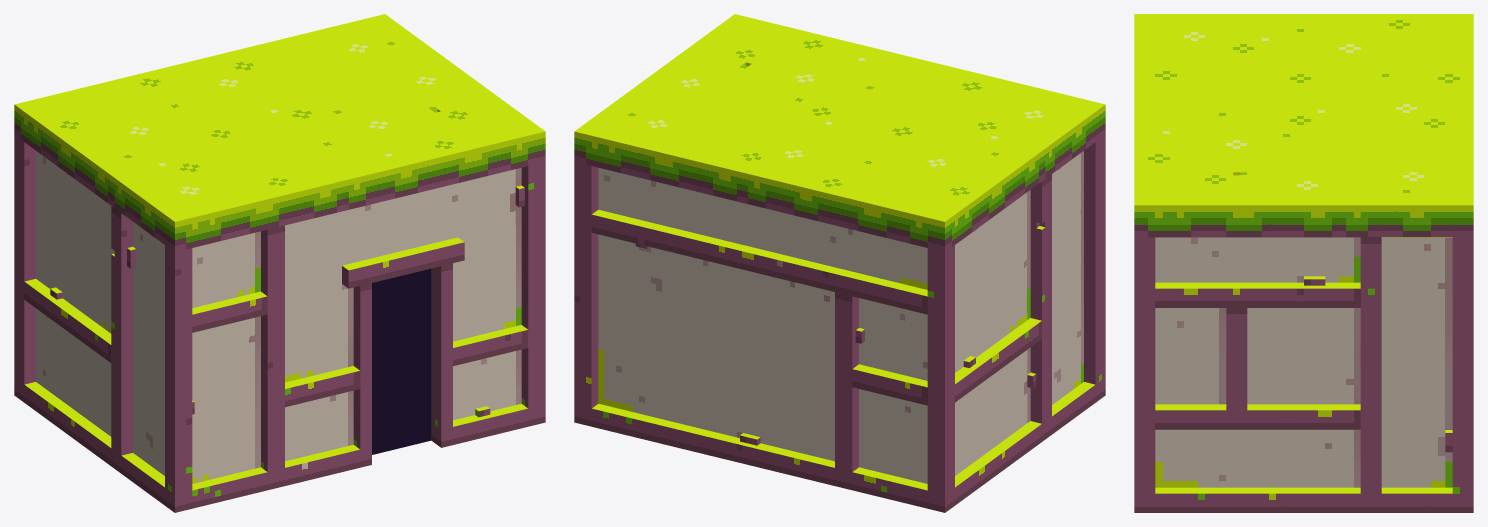
The model's file is newhouse_bao.fezao.glb.
The picture shows the model from 3 angles, left to right: view 1: azimuth 30°, elevation 25°; view 2: azimuth 150°, elevation 25°; view 3: azimuth 270°, elevation 25°; orthographic projection. The views are drawn at different scales.
Visible parts, largest first — view 1: newhouse_BAO; view 2: newhouse_BAO; view 3: newhouse_BAO.
Boxes of the visible parts, x1=… form: newhouse_BAO: x1=14, y1=14, x2=545, y2=512; newhouse_BAO: x1=574, y1=14, x2=1105, y2=512; newhouse_BAO: x1=1134, y1=14, x2=1473, y2=512.
Size of the model in its own units: 4 by 3 by 3.
1 material, 1 textured.
